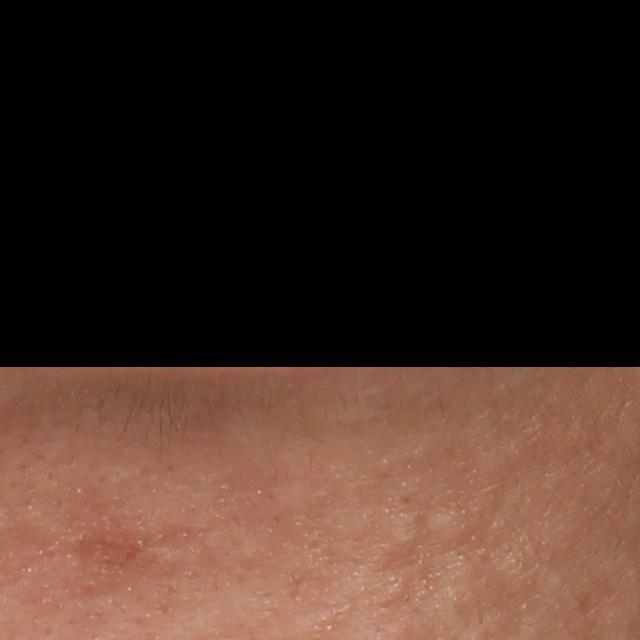hypertrophic_scar: (144, 539, 209, 570), (377, 506, 416, 549), (424, 509, 463, 547)
